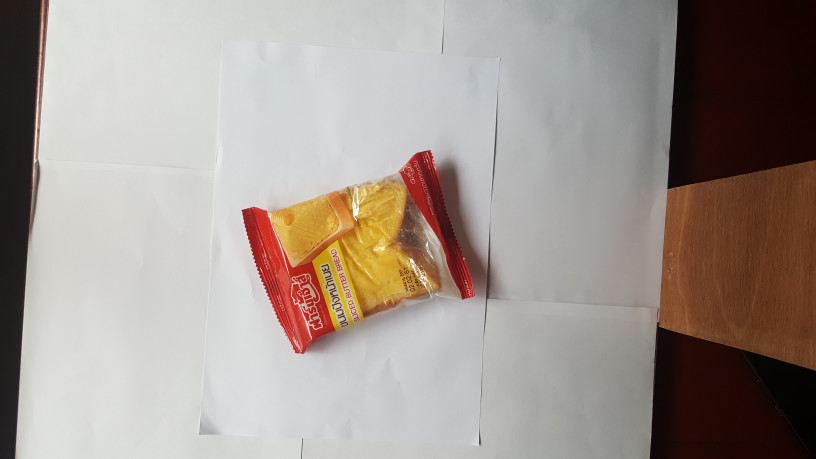farmhouse-bread-butter: (237, 146, 476, 360)
